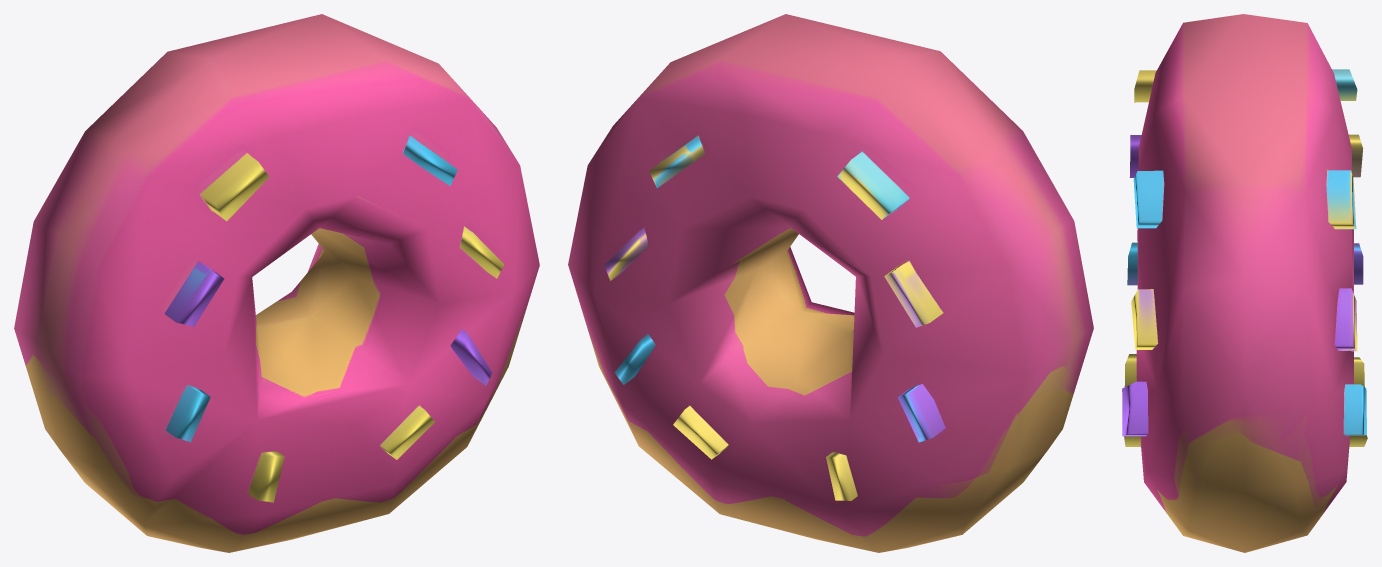
File: source.fbx
The picture shows the model from 3 angles, left to right: view 1: azimuth 30°, elevation 25°; view 2: azimuth 150°, elevation 25°; view 3: azimuth 270°, elevation 25°; orthographic projection. The views are drawn at different scales.
Visible parts, largest first — view 1: Mesh_0; view 2: Mesh_0; view 3: Mesh_0.
Boxes of the visible parts, x1=… form: Mesh_0: x1=14, y1=14, x2=539, y2=552; Mesh_0: x1=568, y1=14, x2=1093, y2=552; Mesh_0: x1=1122, y1=14, x2=1367, y2=552.
Size of the model in its own units: 18.67 by 18 by 8.52.
Materials: 1 (1 with a texture image).
